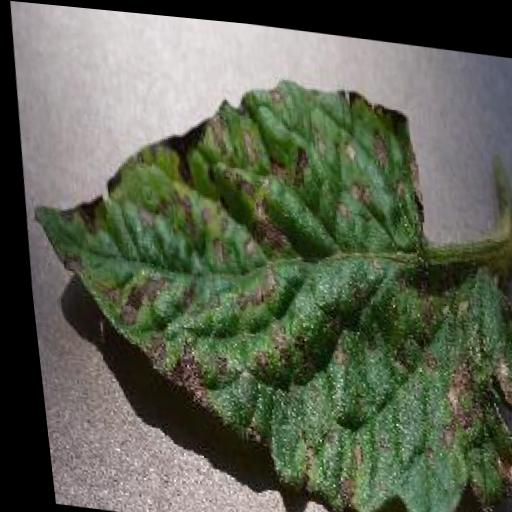Early Blight: (3, 40, 512, 512)
